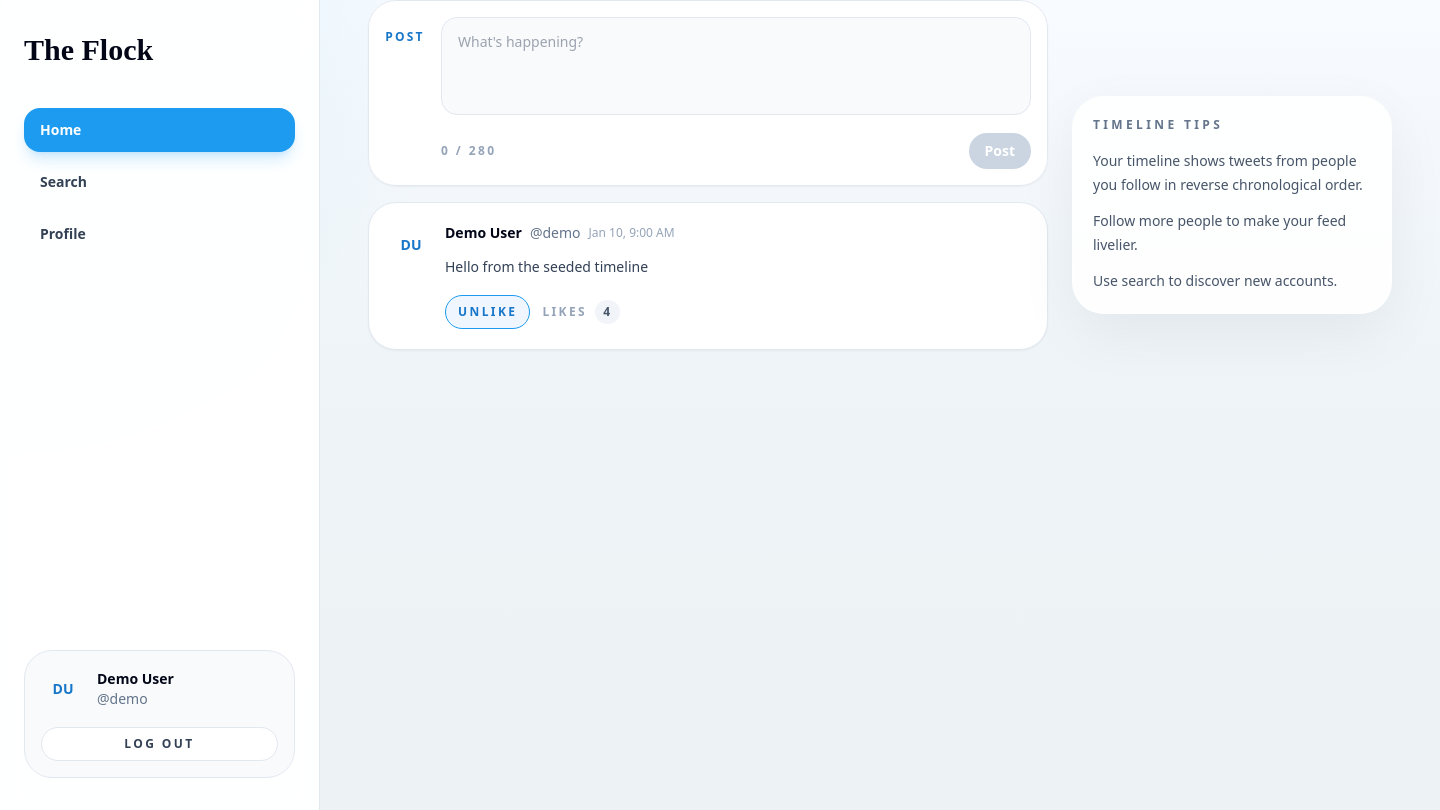
Test: Timeline page › updates the count when unliking a tweet
Click the button "Unlike": click(488, 312) [445,295,530,329]
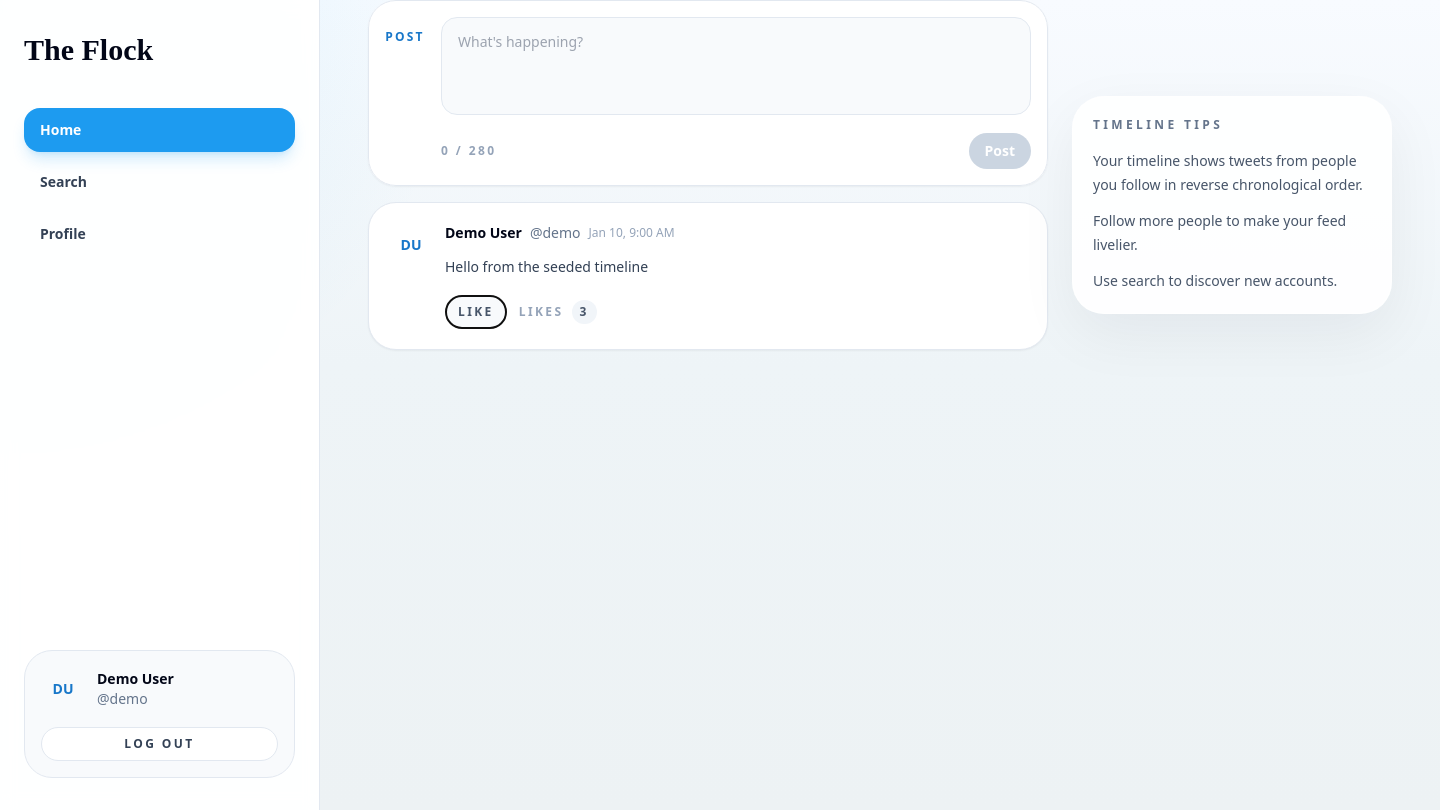
Result: the button "Like" is shown at [445,295,507,329]
Result: the text "3" is shown at [572,300,597,324]
